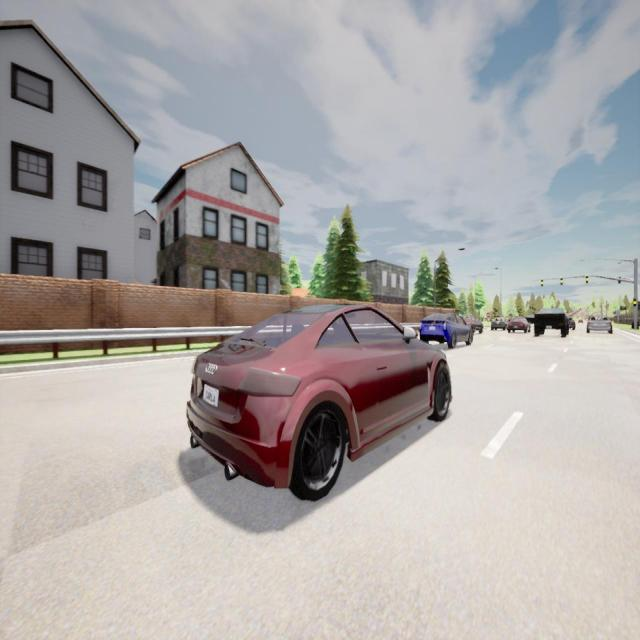Traffic_Signs: (486, 312, 491, 318), (616, 310, 620, 315)
Vehicle: (187, 305, 451, 500), (420, 314, 472, 347), (534, 309, 569, 337), (587, 314, 612, 334), (507, 317, 530, 333), (463, 317, 484, 334), (491, 316, 506, 331), (569, 316, 576, 329), (578, 318, 584, 324)
traffic_light: (560, 278, 563, 286), (634, 299, 636, 308), (541, 279, 543, 287), (586, 276, 588, 284)
